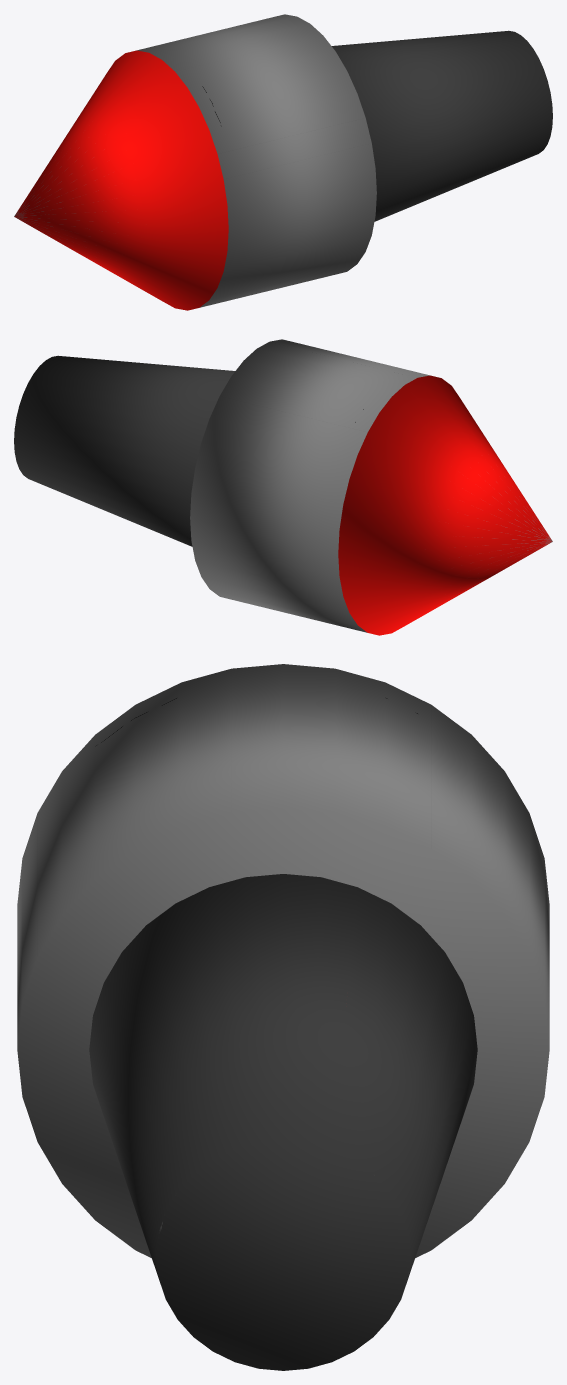
Rendered from rocket.fbx.
3 views of the same model, one above another, from view 1: azimuth 30°, elevation 25°; view 2: azimuth 150°, elevation 25°; view 3: azimuth 270°, elevation 25° (orthographic). The views are drawn at different scales.
Parts seen in each view (by area): view 1: Cylinder; view 2: Cylinder; view 3: Cylinder.
Part boxes in pixels (x1=…): Cylinder: x1=14, y1=14, x2=552, y2=310; Cylinder: x1=14, y1=339, x2=552, y2=635; Cylinder: x1=17, y1=664, x2=549, y2=1370.
Size of the model in its own units: 110 by 50 by 50.
